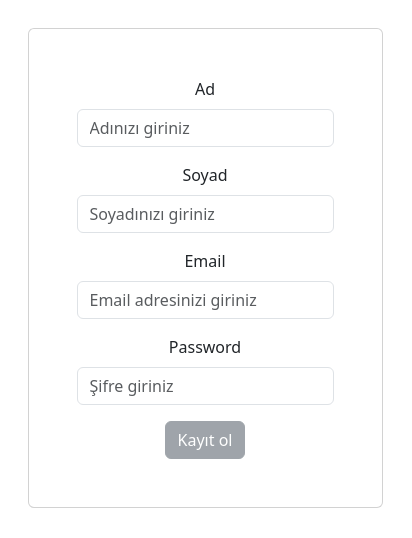
Test: Register Page › Error Messages › surname input throws error for 2 chars
Type "em" into the field with test id "soyad-input".
click(206, 214); type("em")  # box [77,195,334,233]
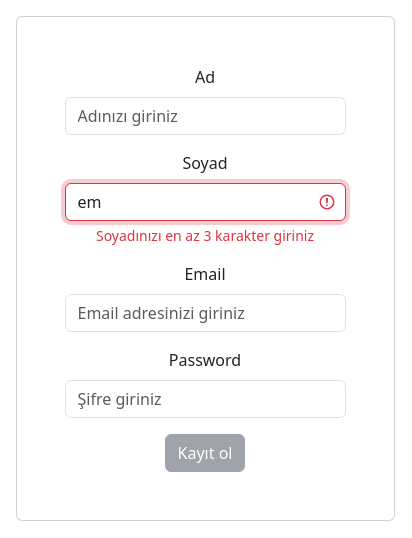
Result: the text "Soyadınızı en az 3 karakter giriniz" is shown at [96,226,314,244]
